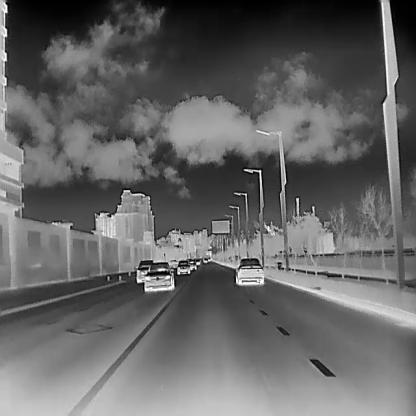car: (140, 261, 174, 290), (235, 256, 263, 284), (135, 258, 152, 282), (176, 259, 190, 273), (189, 258, 196, 270), (195, 257, 200, 264), (202, 256, 207, 262), (207, 256, 210, 261)
